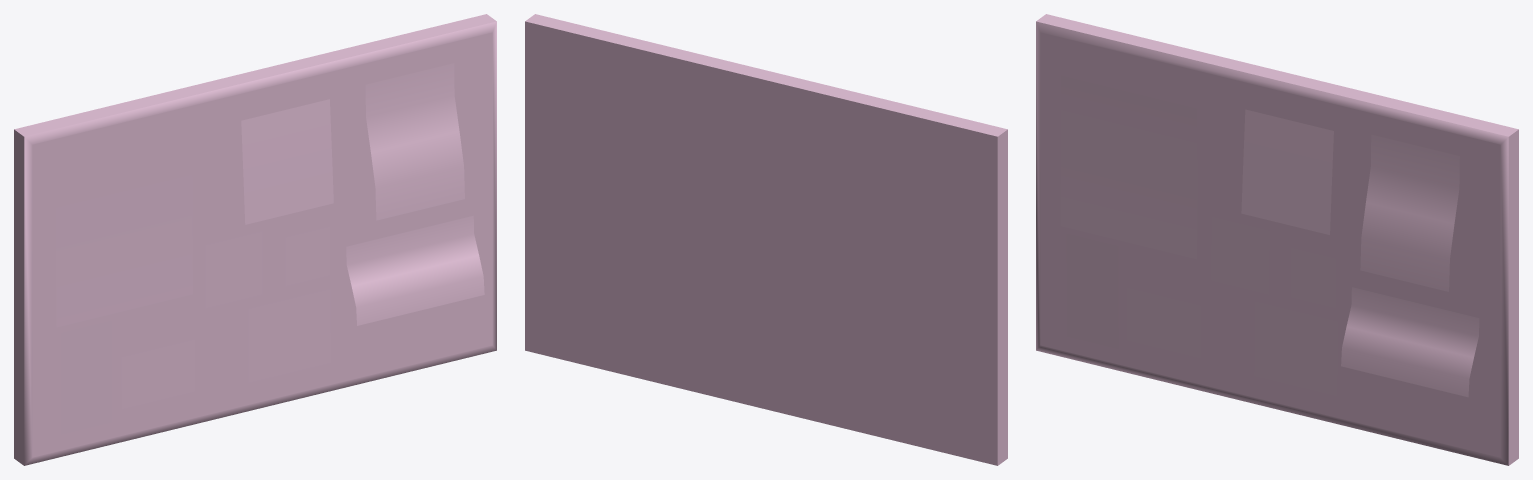
The model's file is sticky notes.fbx.
The picture shows the model from 3 angles, left to right: view 1: azimuth 30°, elevation 25°; view 2: azimuth 150°, elevation 25°; view 3: azimuth 330°, elevation 25°; orthographic projection.
Parts seen in each view (by area): view 1: sticky notes; view 2: sticky notes; view 3: sticky notes.
Part boxes in pixels (x1,y1,x2,y2): sticky notes: [14, 14, 496, 465]; sticky notes: [525, 14, 1007, 465]; sticky notes: [1036, 14, 1518, 465].
Bounding box in the file's own units: 630 × 419 × 55.69.
